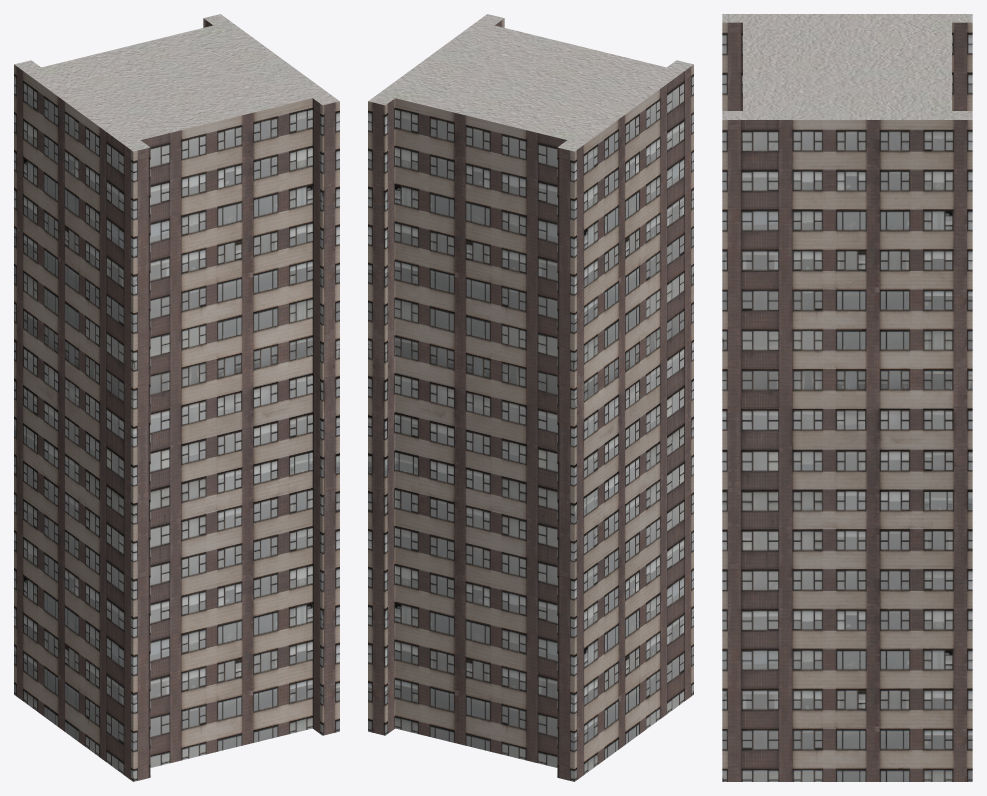
Rendered from Building 2.fbx.
The picture shows the model from 3 angles, left to right: view 1: azimuth 30°, elevation 25°; view 2: azimuth 150°, elevation 25°; view 3: azimuth 270°, elevation 25°; orthographic projection. The views are drawn at different scales.
Parts seen in each view (by area): view 1: Building 2; view 2: Building 2; view 3: Building 2.
Boxes of the visible parts, x1,y1,x2,y2 form: Building 2: (14,14,339,781); Building 2: (368,14,693,781); Building 2: (722,14,972,781).
Size of the model in its own units: 1200 by 3500 by 1200.
Materials: 2 (2 with a texture image).
